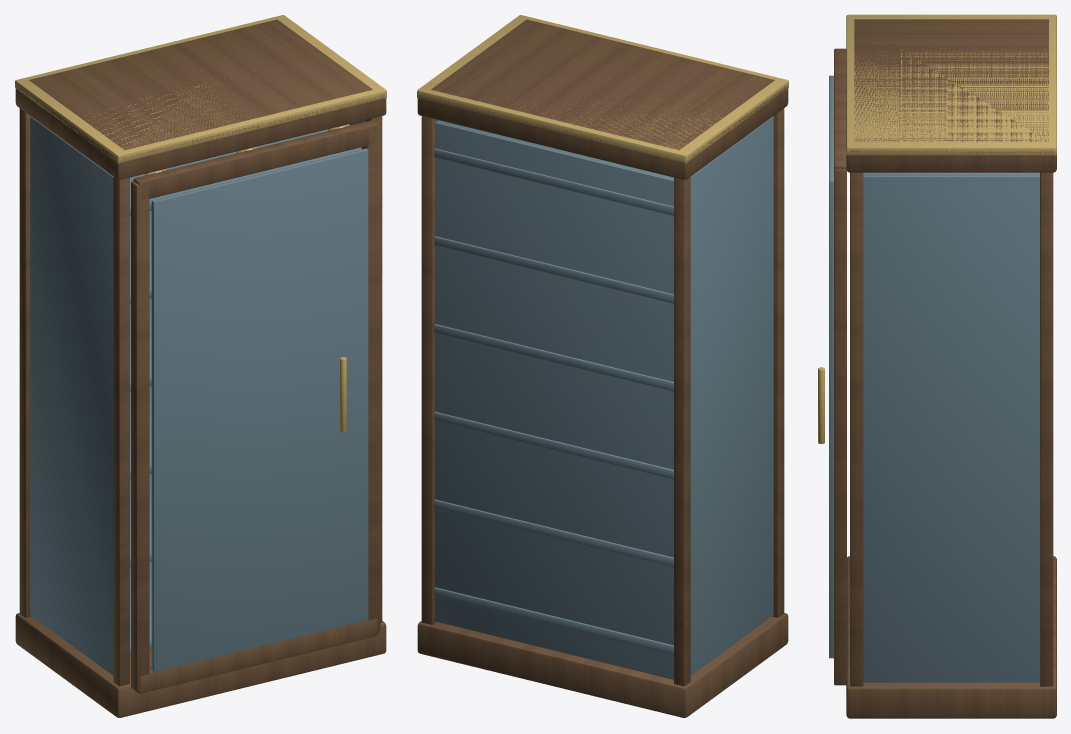
File: pf_display_glass_display_tower_t4.glb
3 renders of one model, left to right at view 1: azimuth 30°, elevation 25°; view 2: azimuth 150°, elevation 25°; view 3: azimuth 270°, elevation 25°, orthographic.
Visible parts, largest first — view 1: Door_Glass_01, Tower_Glass_2, Crown_Main, Tower_Base, Door_Frame_01_L, Tower_Post_-0.51_-0.32, Crown_Trim, Tower_Top, Door_Frame_01_R, Tower_Post_-0.51_+0.32, Door_Frame_01_Top, Door_Frame_01_Bottom (+2 smaller); view 2: Tower_Glass_1, Tower_Glass_2, Crown_Main, Tower_Base, Tower_Post_-0.51_+0.32, Crown_Trim, Tower_Top, Tower_Post_+0.51_+0.32, Tower_Post_-0.51_-0.32, Shelf_06, Shelf_01, Shelf_02 (+3 smaller); view 3: Tower_Glass_3, Crown_Trim, Crown_Main, Tower_Base, Tower_Post_+0.51_+0.32, Tower_Post_+0.51_-0.32, Door_Frame_01_R, Tower_Top, Door_Glass_01, Door_Frame_01_Top, Door_Handle_01, Shelf_06.
Boxes of the visible parts, x1,y1,x2,y2 form: Door_Glass_01: (151,148,368,671); Tower_Glass_2: (30,116,113,675); Crown_Main: (29,19,372,150); Tower_Base: (15,613,386,717); Door_Frame_01_L: (131,181,149,691); Tower_Post_-0.51_-0.32: (113,177,129,686); Crown_Trim: (15,15,386,163); Tower_Top: (15,69,386,179); Door_Frame_01_R: (361,125,380,633); Tower_Post_-0.51_+0.32: (19,108,31,617); Door_Frame_01_Top: (133,120,377,199); Door_Frame_01_Bottom: (136,618,377,693); Tower_Glass_1: (435,121,673,679); Tower_Glass_2: (690,116,773,675); Crown_Main: (431,19,774,150); Tower_Base: (417,613,788,717); Tower_Post_-0.51_+0.32: (674,177,690,686); Crown_Trim: (417,15,788,163); Tower_Top: (417,78,788,179); Tower_Post_+0.51_+0.32: (421,116,438,624); Tower_Post_-0.51_-0.32: (772,108,784,617); Shelf_06: (434,126,673,215); Shelf_01: (434,587,673,654); Shelf_02: (434,499,673,566); Tower_Glass_3: (863,174,1039,682); Crown_Trim: (846,14,1056,155); Crown_Main: (854,19,1048,142); Tower_Base: (846,556,1056,718); Tower_Post_+0.51_+0.32: (1040,172,1053,686); Tower_Post_+0.51_-0.32: (850,172,863,686); Door_Frame_01_R: (834,169,846,683); Tower_Top: (846,138,1056,172); Door_Glass_01: (829,75,833,658); Door_Frame_01_Top: (834,48,846,169); Door_Handle_01: (818,367,824,443); Shelf_06: (863,172,1039,174).
Bounding box in the file's own units: 1.08 × 2.16 × 0.817.
5 materials, 1 textured.
